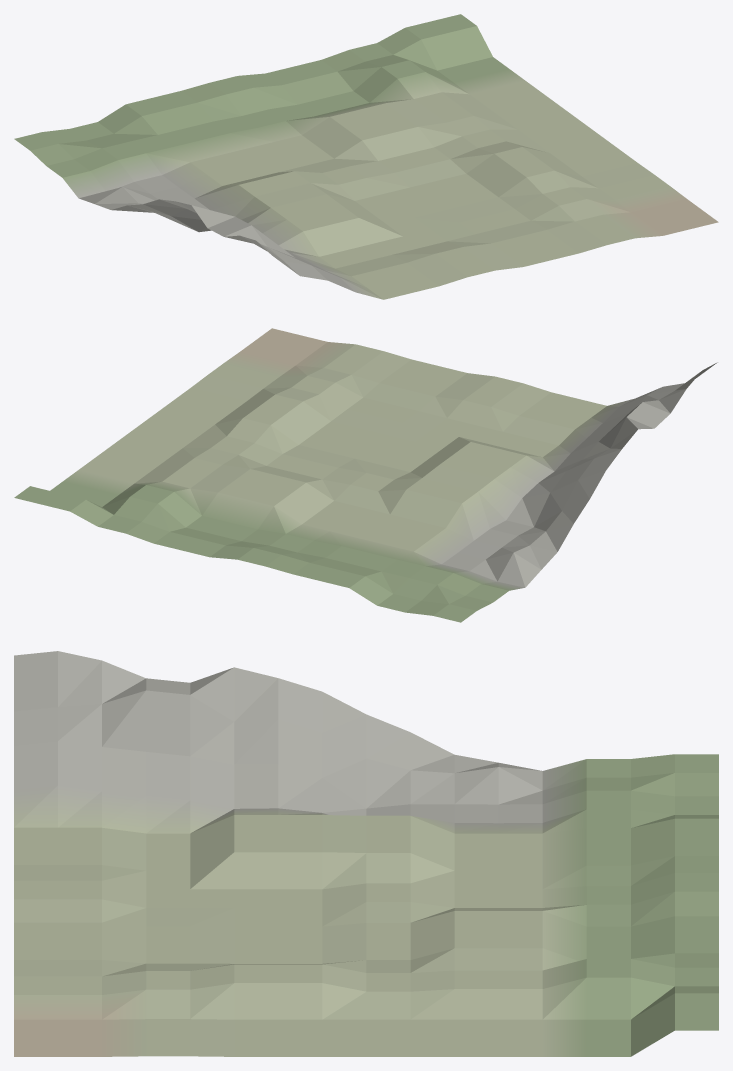
The picture shows the model from 3 angles, top to bottom: view 1: azimuth 30°, elevation 25°; view 2: azimuth 150°, elevation 25°; view 3: azimuth 270°, elevation 25°; orthographic projection. The views are drawn at different scales.
Size of the model in its own units: 32 by 6.06 by 32.
